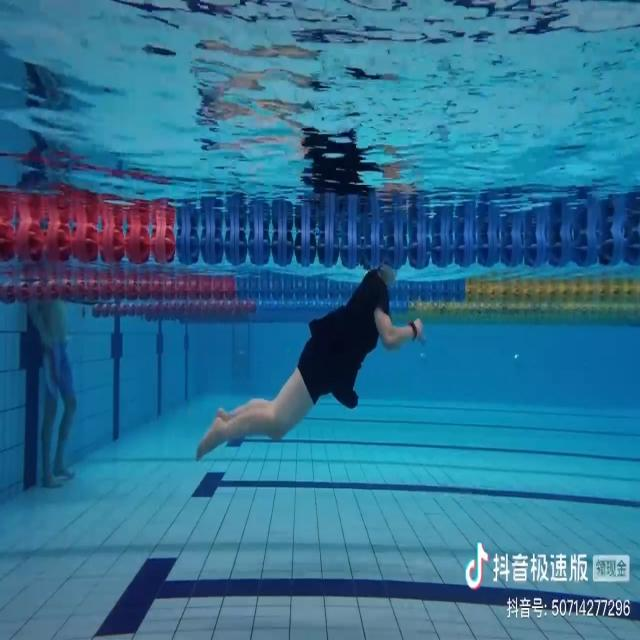Swimming: (196, 270, 424, 459)
